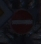No entry: (6, 6, 36, 39)
